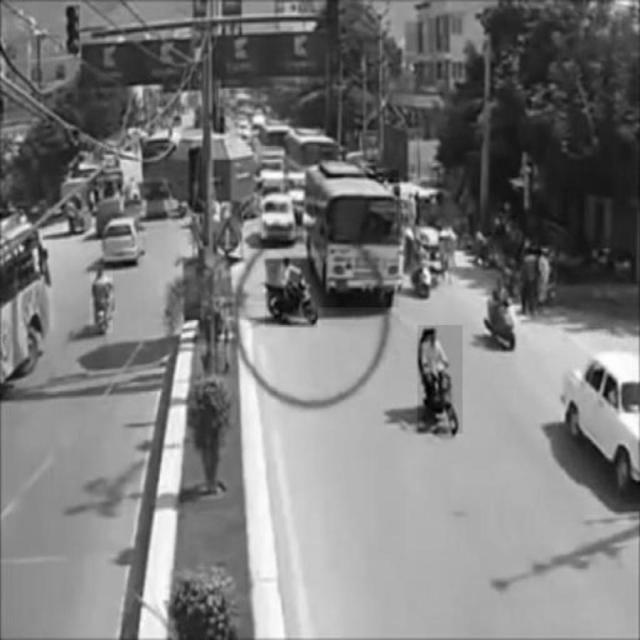vehicle: (306, 171, 398, 308), (418, 325, 463, 433), (266, 259, 318, 327), (482, 282, 519, 349), (100, 216, 144, 264), (89, 264, 113, 332), (264, 195, 298, 243)
